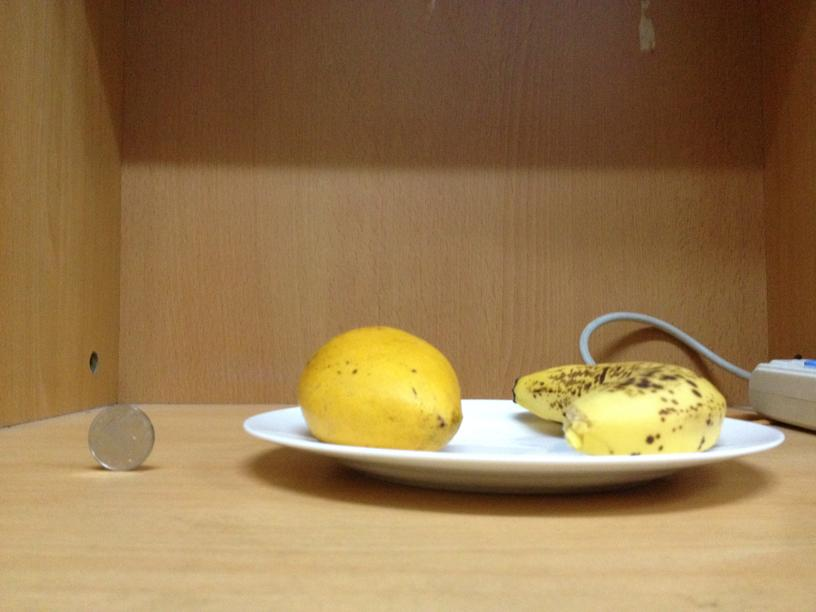banana: (514, 359, 724, 453)
coin: (85, 402, 152, 469)
mango: (302, 327, 462, 450)
